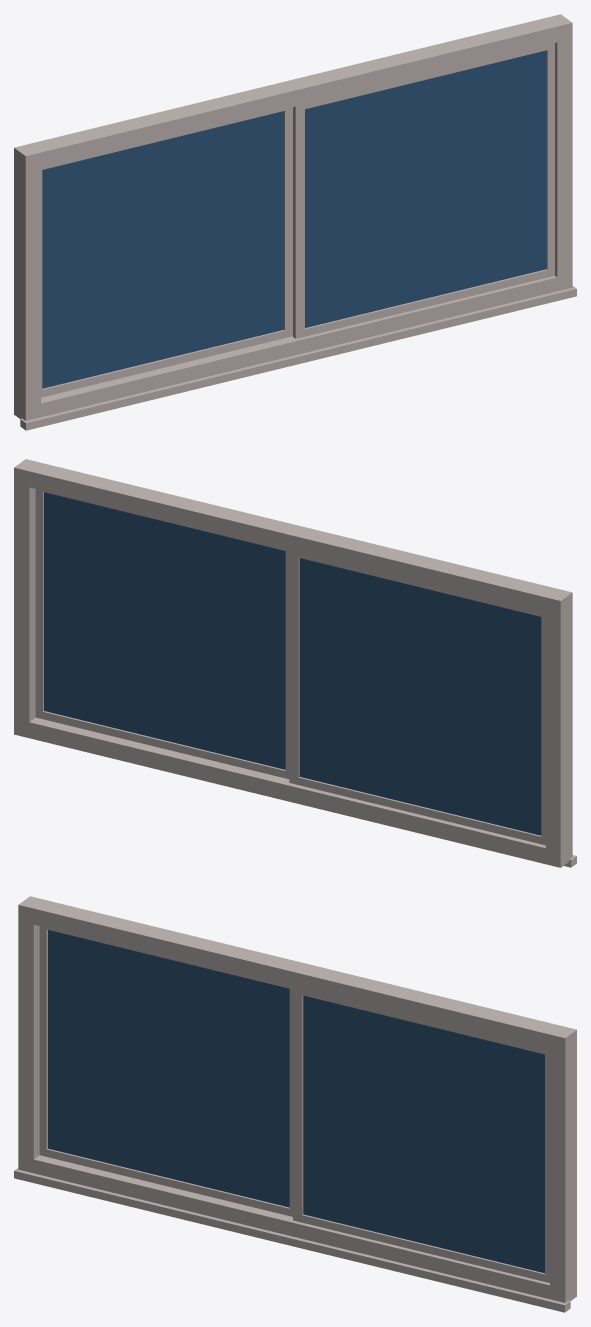
Rendered from SM_Opening_Window25611_01.gltf.
3 views of the same model, one above another, from view 1: azimuth 30°, elevation 25°; view 2: azimuth 150°, elevation 25°; view 3: azimuth 330°, elevation 25° (orthographic).
Visible parts, largest first — view 1: SM_Opening_Window25611_01; view 2: SM_Opening_Window25611_01; view 3: SM_Opening_Window25611_01.
Boxes of the visible parts, box(x1,y1,x2,y2) form: SM_Opening_Window25611_01: box(14, 14, 576, 430); SM_Opening_Window25611_01: box(14, 459, 576, 867); SM_Opening_Window25611_01: box(14, 896, 576, 1312).
Bounding box in the file's own units: 2.7 × 1.28 × 0.12.
1 material, 1 textured.
